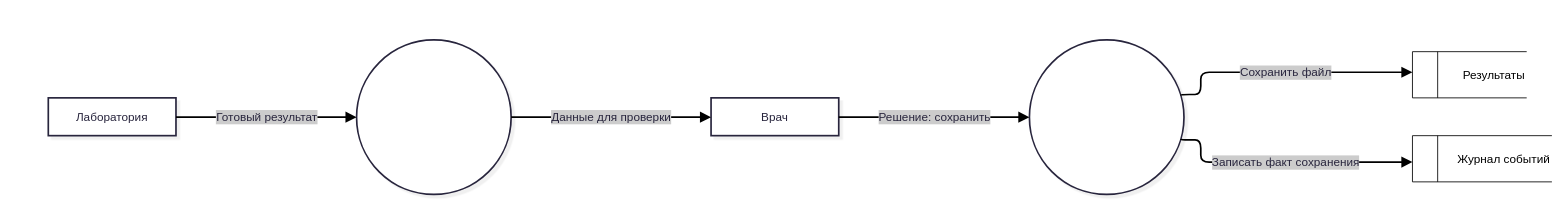
The diagram is 1567 pixels wide and 213 high, and some of its shapes have lost their labels. Here are the shapes that lost their labels. From the top down, the centre of each, then its label:
pixel 435 118: Получить и проверить результат из лаборатории
pixel 1108 118: Подтвердить и сохранить в папку результатов
